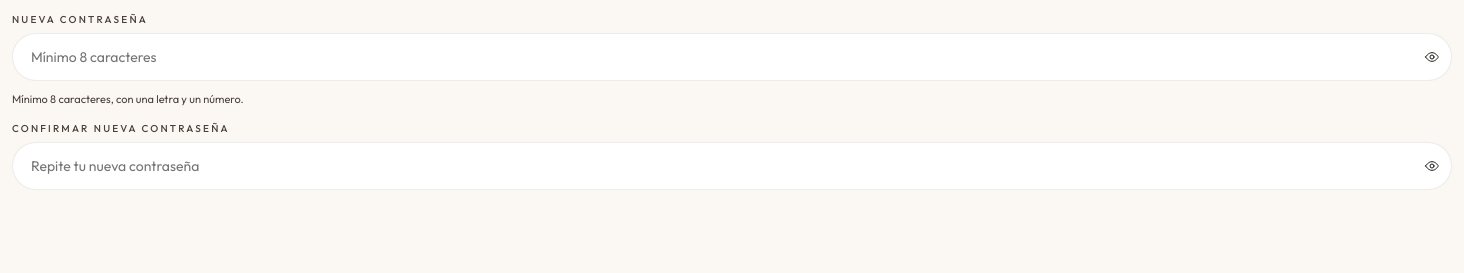
ResetPasswordForm › shows a generic server error for any other failure
This screenshot has width=1464, height=273.
Step 1. Type "clave1234" into the password field with placeholder "Mínimo 8 caracteres" → (732, 57), box [12, 33, 1452, 81]
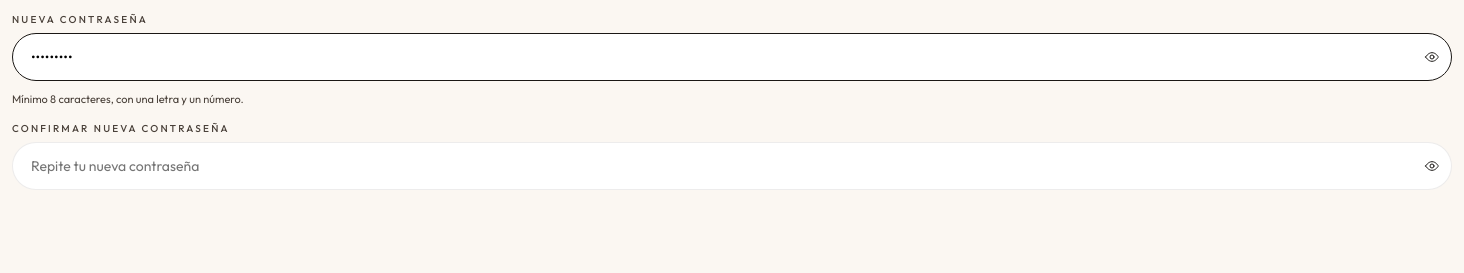
Step 2. Type "clave1234" into the password field with placeholder "Repite tu nueva contraseña" → (732, 166), box [12, 142, 1452, 190]
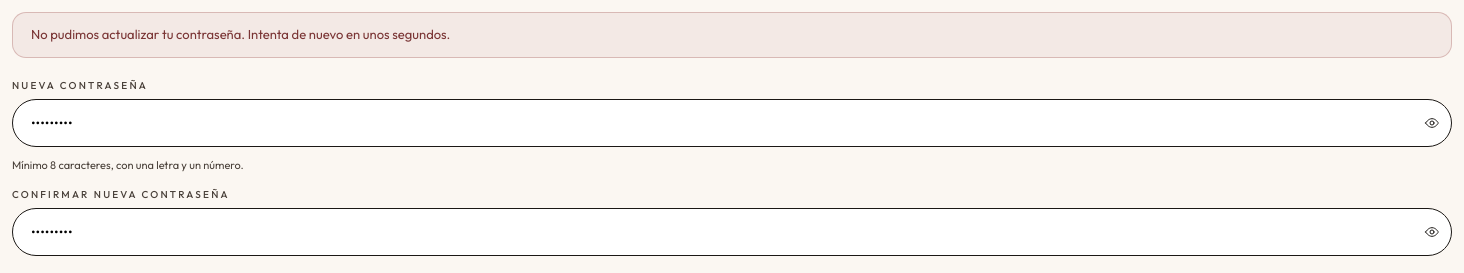
Now the text "No pudimos actualizar tu contraseña. Intenta de nuevo en unos segundos." is shown, box [12, 12, 1452, 58]
